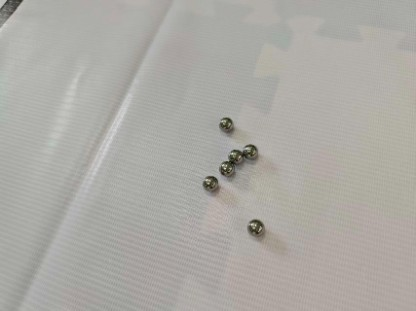ironball: (247, 218, 263, 236), (201, 174, 218, 190), (243, 144, 258, 159), (219, 160, 233, 175), (227, 148, 240, 163), (218, 116, 231, 130)
